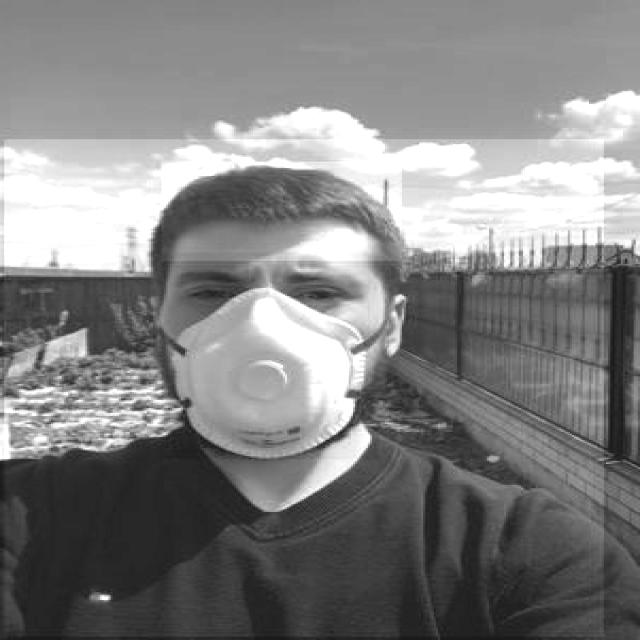face_mask: (162, 253, 378, 459)
head_nohelmet: (161, 162, 402, 260)
person: (2, 140, 604, 638)
